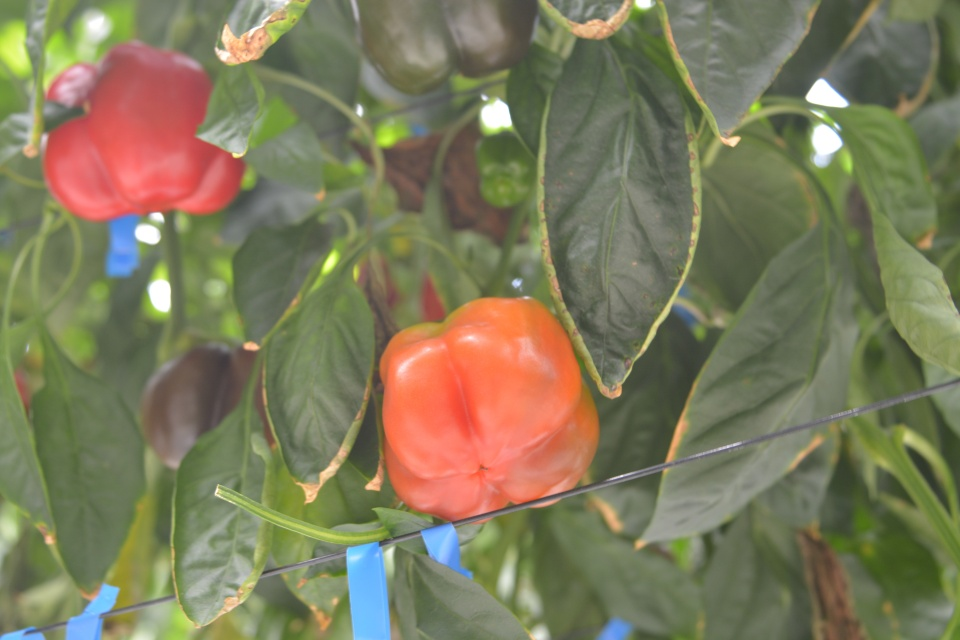fruit: (378, 294, 600, 524), (38, 42, 245, 224), (335, 0, 541, 96), (138, 340, 276, 468)
